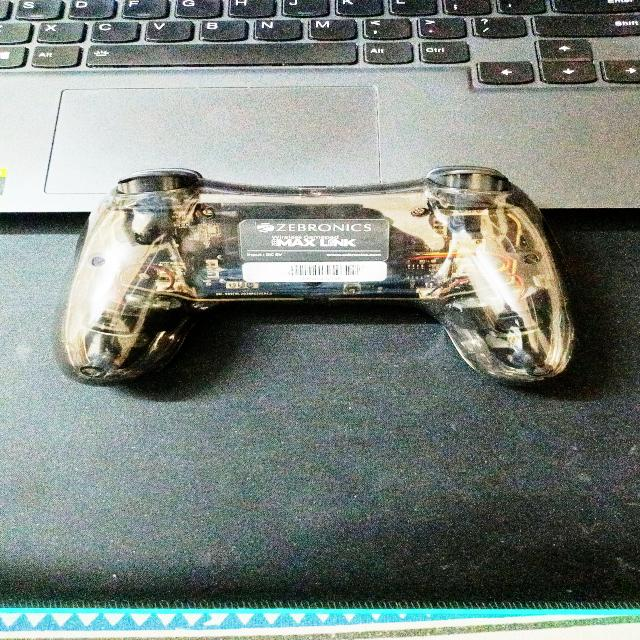gamepad: (61, 164, 576, 386)
